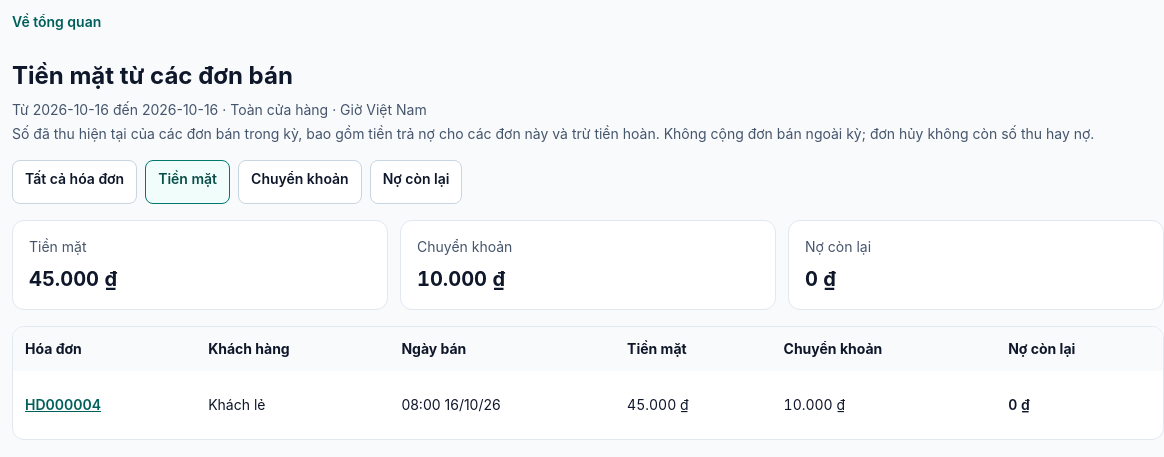
Test case: shows a filtered invoice with its current payments and keeps date/scope on method navigation
expect the heading "Tiền mặt từ các đơn bán" is shown: met, box [12,61,293,90]
Click the link "Nợ còn lại": (416, 182) [370,160,462,204]
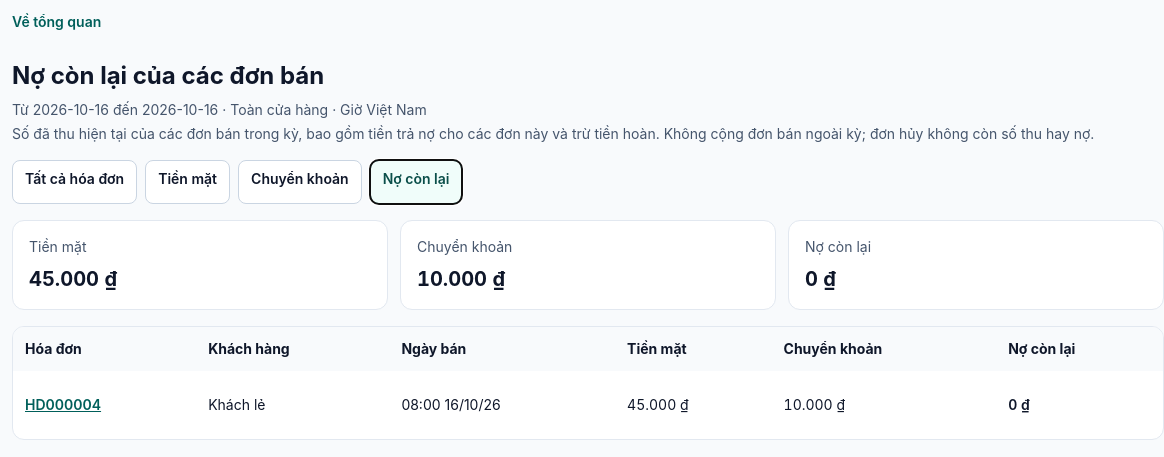
expect the heading "Nợ còn lại của các đơn bán" is shown: met, box [12,61,324,90]
